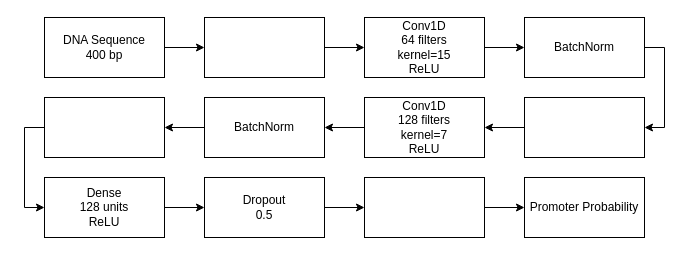
This 690x255 diagram has some shape labels left out. Each missing label, with the box of its shape:
Dense Sigmoid: (364, 176, 484, 238)
Global Max Pooling: (44, 96, 164, 158)
MaxPooling pool=4: (524, 96, 644, 158)
One-hot Encoding 400 × 4: (204, 16, 324, 78)
